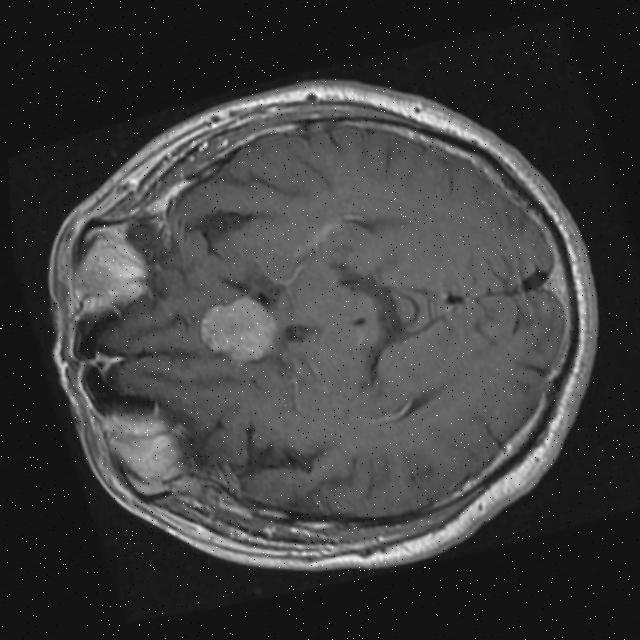Pituitary: (190, 290, 285, 371)
